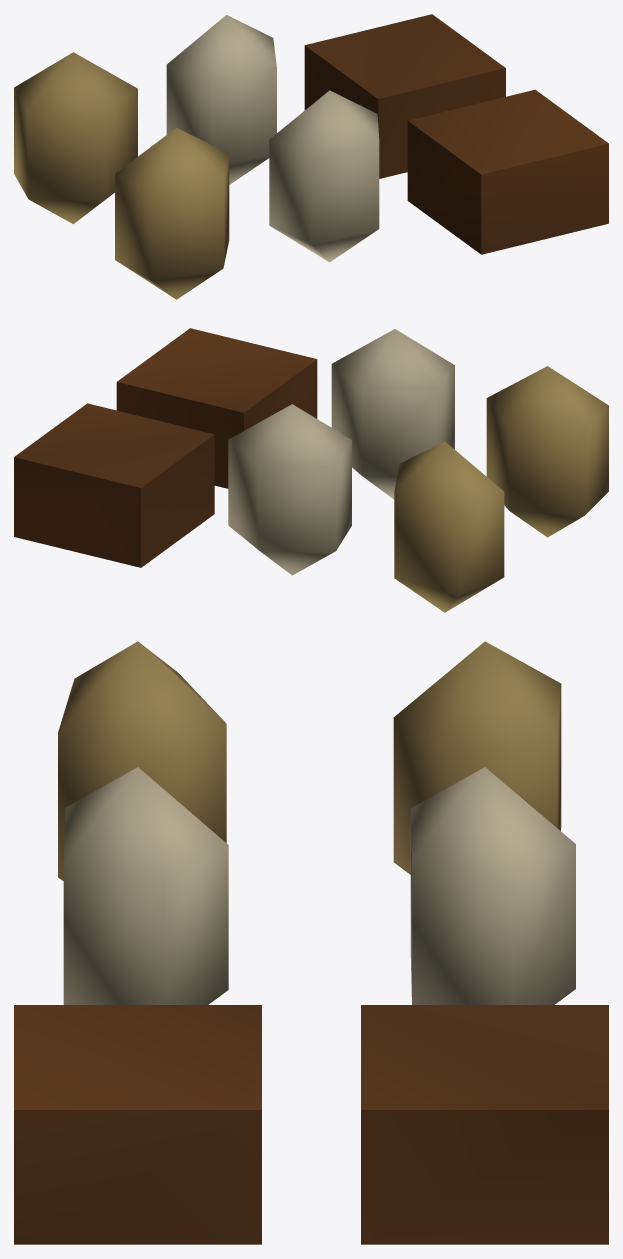
Rendered from fm_produce_lod1.glb.
The picture shows the model from 3 angles, top to bottom: view 1: azimuth 30°, elevation 25°; view 2: azimuth 150°, elevation 25°; view 3: azimuth 270°, elevation 25°; orthographic projection. The views are drawn at different scales.
Parts seen in each view (by area): view 1: fm_produce_lod1; view 2: fm_produce_lod1; view 3: fm_produce_lod1.
Part boxes in pixels (x1=…): fm_produce_lod1: x1=14, y1=14, x2=608, y2=299; fm_produce_lod1: x1=14, y1=328, x2=608, y2=612; fm_produce_lod1: x1=14, y1=641, x2=608, y2=1244.
Bounding box in the file's own units: 1.75 × 0.6448 × 1.2.
